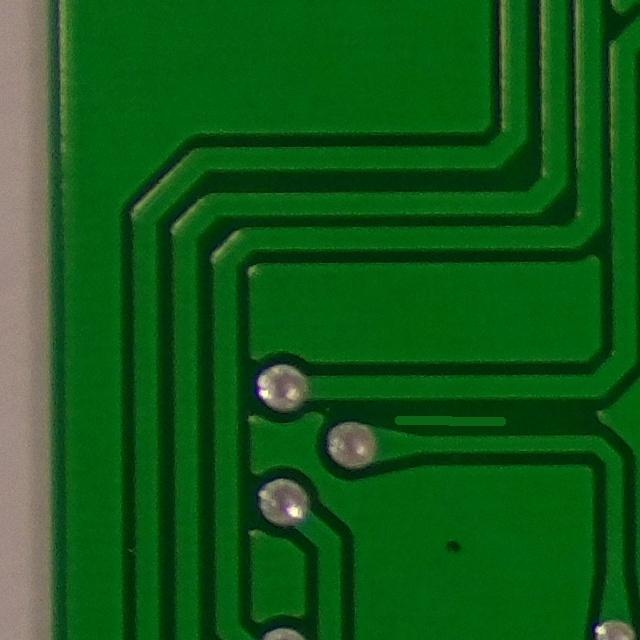spurious_copper: (381, 397, 516, 441)
